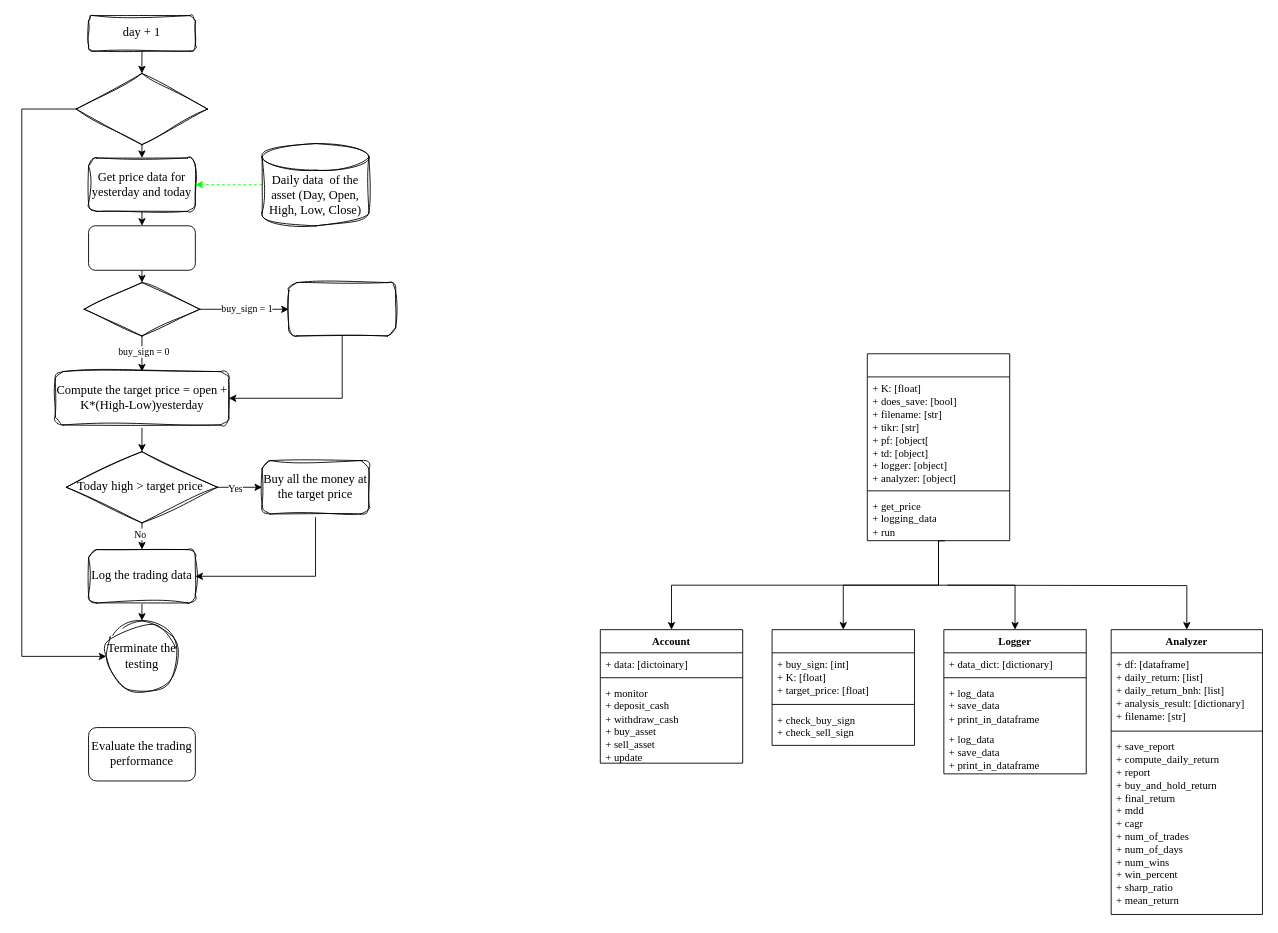
Image size: 1278x933. Some labels were removed from this diagram. Each missing label, with the box of its shape:
Backtester: (866, 353, 1010, 541)
Check if today is the end of the data: (75, 73, 208, 145)
Check the buy_sign: (83, 282, 200, 336)
Set all the asset at the today open price: (288, 282, 396, 336)
Set the target price=0: (88, 225, 195, 270)
Trader: (771, 629, 914, 745)
